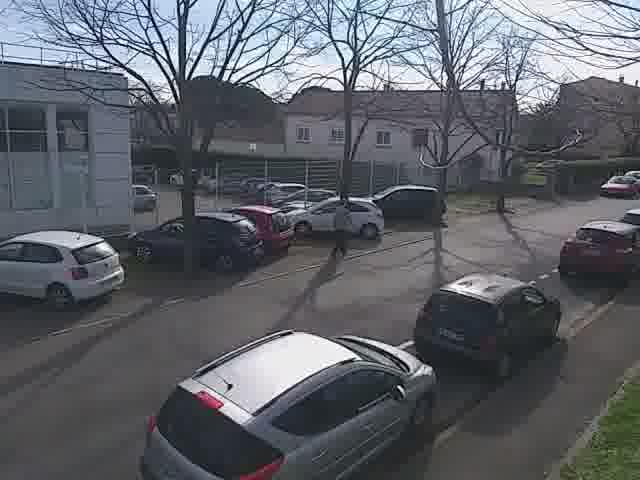persona: (325, 189, 355, 267)
